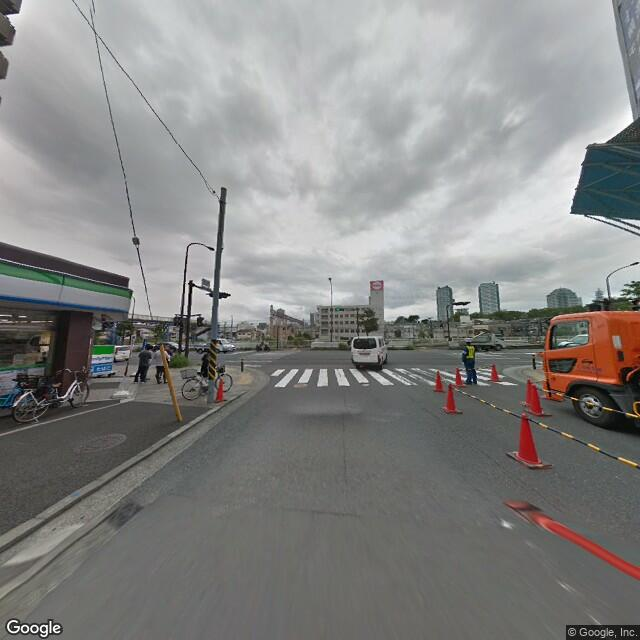family_mart: (1, 262, 132, 316), (89, 346, 113, 375)
